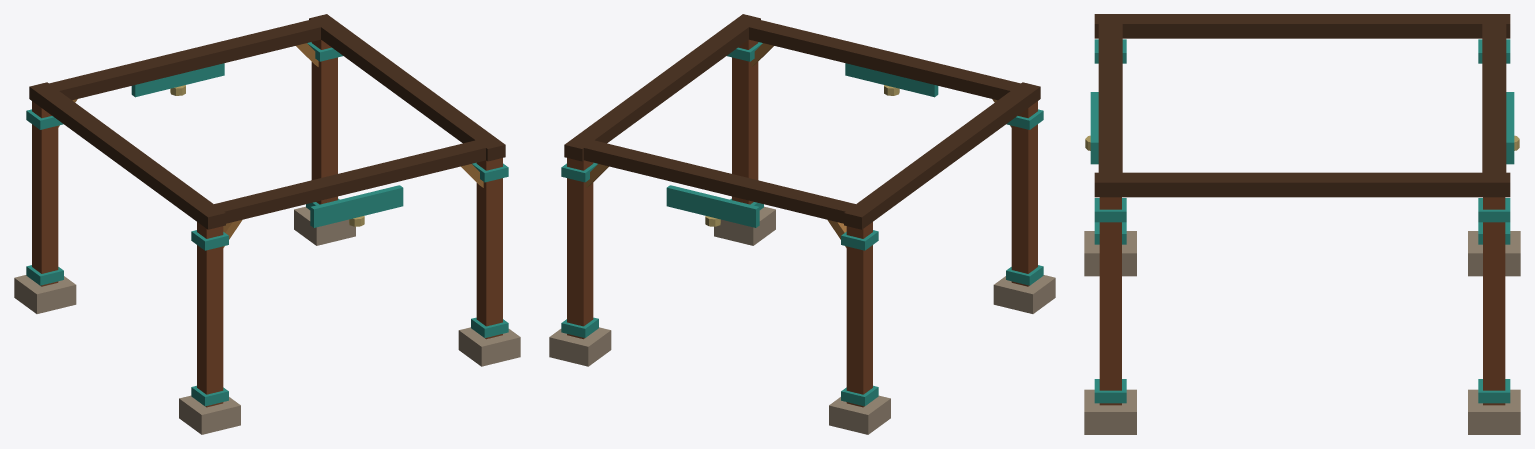
The model's file is Tropical_LagoonPavilion_Showcase.glb.
3 renders of one model, left to right at view 1: azimuth 30°, elevation 25°; view 2: azimuth 150°, elevation 25°; view 3: azimuth 270°, elevation 25°, orthographic. The views are drawn at different scales.
Visible parts, largest first — view 1: Tropical_LagoonPavilion_Showcase; view 2: Tropical_LagoonPavilion_Showcase; view 3: Tropical_LagoonPavilion_Showcase.
Part boxes in pixels (x1,y1,x2,y2): Tropical_LagoonPavilion_Showcase: (14, 14, 520, 434); Tropical_LagoonPavilion_Showcase: (549, 14, 1055, 434); Tropical_LagoonPavilion_Showcase: (1084, 14, 1520, 434).
Size of the model in its own units: 5.36 by 3.4 by 5.46.
